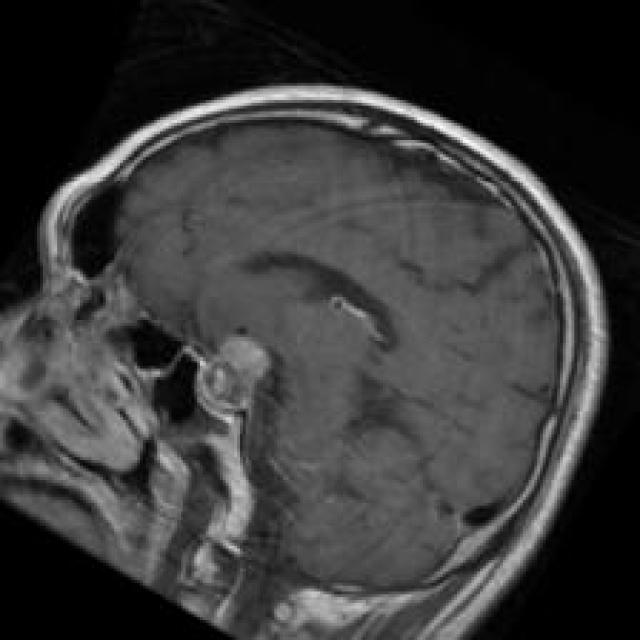pituitary_tumor: (184, 320, 282, 434)
